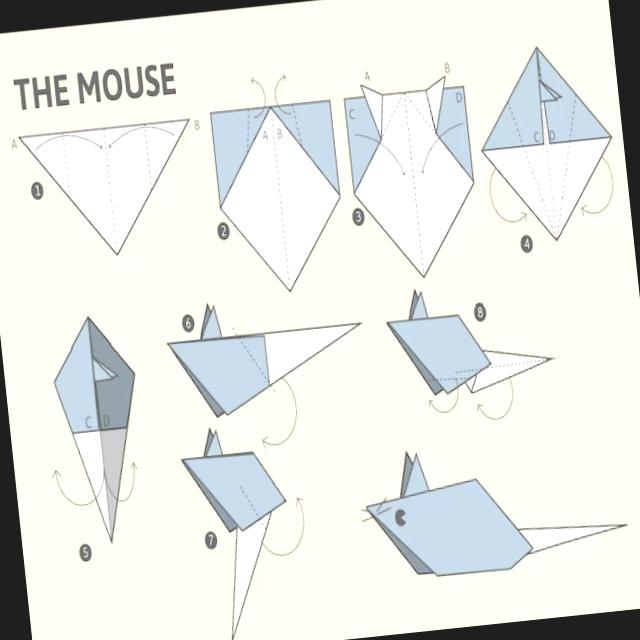arrow: (264, 498, 305, 557), (263, 379, 297, 448), (489, 169, 527, 223), (355, 134, 405, 174), (422, 123, 462, 172), (52, 470, 104, 507), (582, 157, 614, 215), (108, 125, 174, 148), (477, 379, 514, 420), (105, 462, 136, 502), (35, 134, 101, 150), (429, 381, 460, 414), (275, 75, 289, 114), (252, 78, 266, 117)
fold-line: (540, 88, 596, 240), (503, 96, 559, 241), (400, 88, 478, 191), (348, 87, 408, 198), (532, 41, 561, 247), (266, 102, 294, 296), (401, 88, 427, 282), (228, 319, 281, 403), (231, 477, 274, 543), (100, 124, 120, 257), (453, 357, 553, 376), (288, 101, 310, 157), (58, 126, 72, 208), (142, 119, 154, 198), (241, 106, 254, 162), (422, 373, 481, 385)
